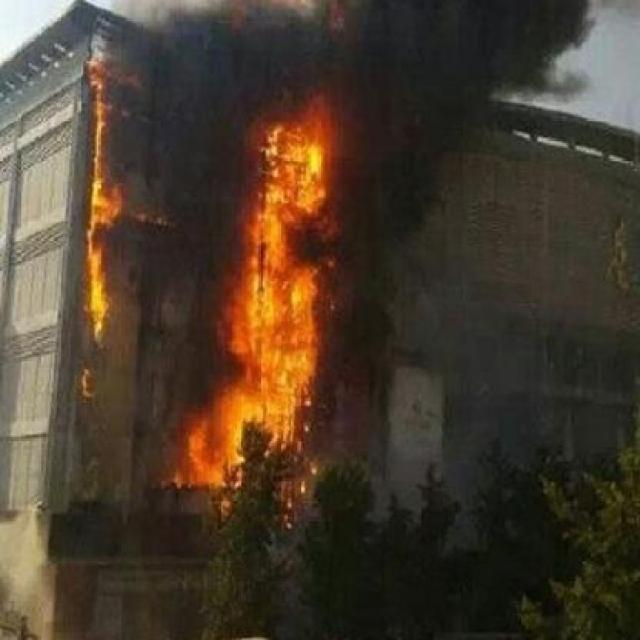Fire: (180, 71, 334, 526), (84, 49, 128, 412)
Smoke: (140, 5, 604, 90), (337, 95, 427, 368), (126, 89, 172, 477)
